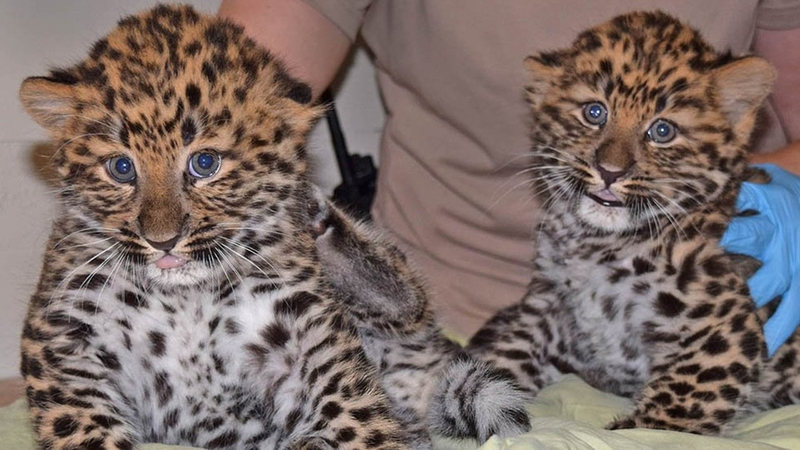amur_leopard: (5, 3, 353, 347), (493, 2, 788, 379)
